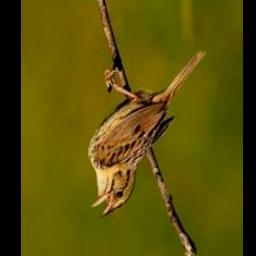Sparrow: (88, 49, 211, 220)
